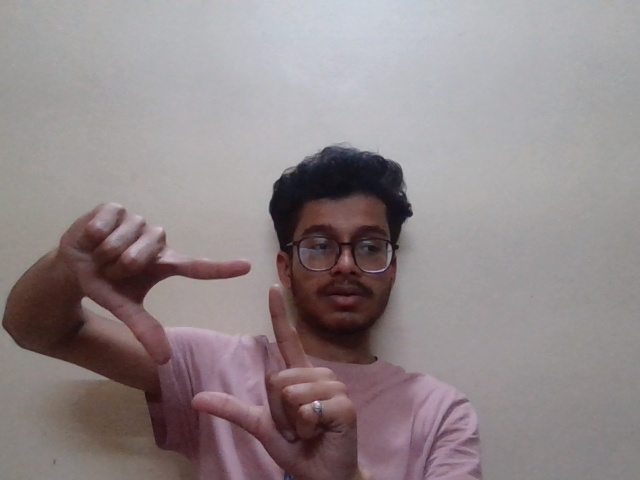video: (61, 193, 363, 458)
